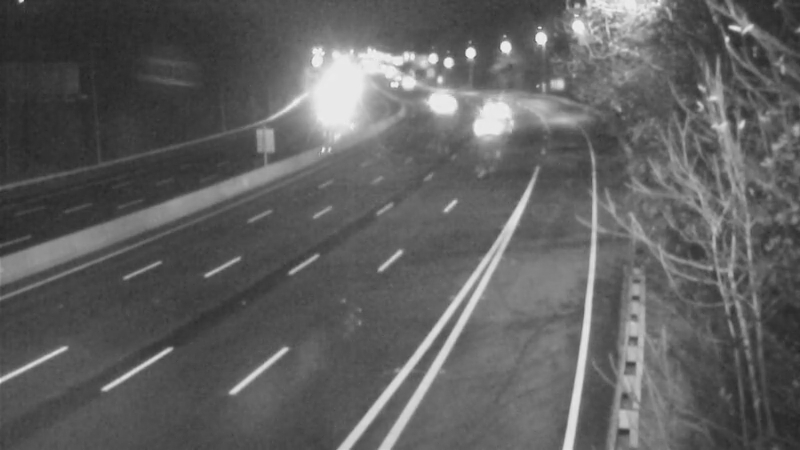vehicle: (412, 72, 462, 122), (421, 83, 471, 133), (460, 80, 510, 130), (462, 106, 512, 156)
